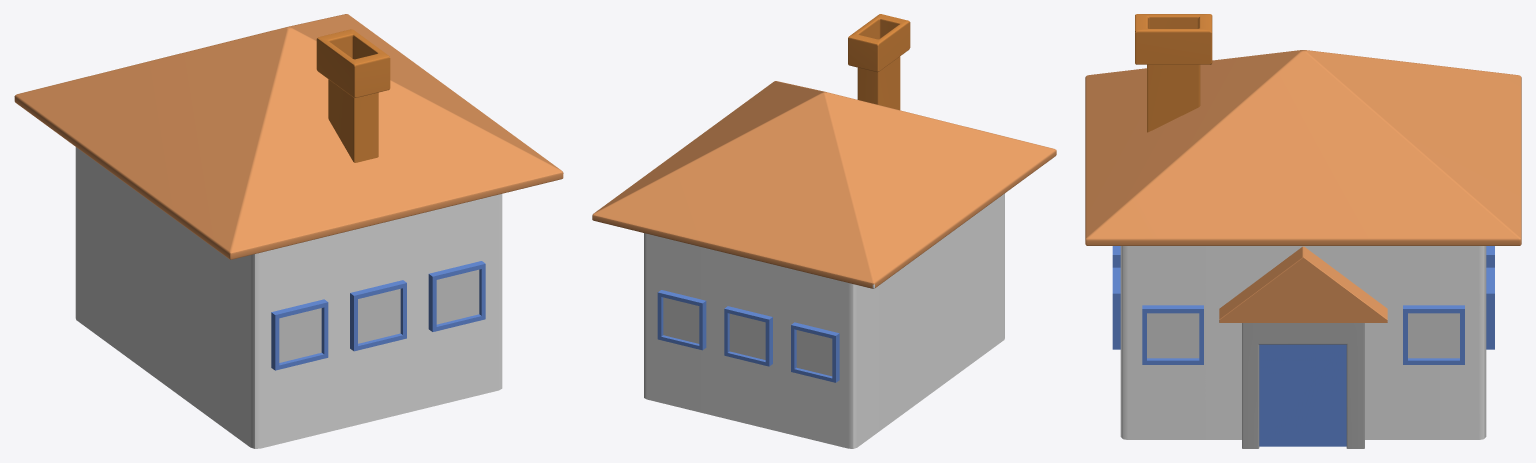
File: house2.fbx
3 views of the same model, side by side, from view 1: azimuth 30°, elevation 25°; view 2: azimuth 150°, elevation 25°; view 3: azimuth 270°, elevation 25° (orthographic). The views are drawn at different scales.
Parts seen in each view (by area): view 1: house_red_mesh; view 2: house_red_mesh; view 3: house_red_mesh.
Part boxes in pixels (left/top/right/bottom): house_red_mesh: left=14, top=14, right=563, bottom=448; house_red_mesh: left=592, top=14, right=1056, bottom=448; house_red_mesh: left=1085, top=14, right=1521, bottom=448.
Size of the model in its own units: 4.83 by 4.89 by 5.42.
